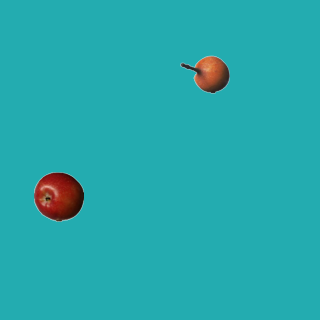Apple Braeburn: (33, 171, 83, 221)
Granadilla: (179, 49, 229, 99)
